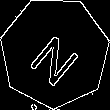N_NE: (24, 20, 85, 85)
